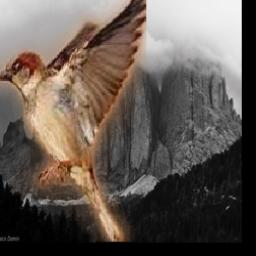Sparrow: (0, 0, 146, 242)
